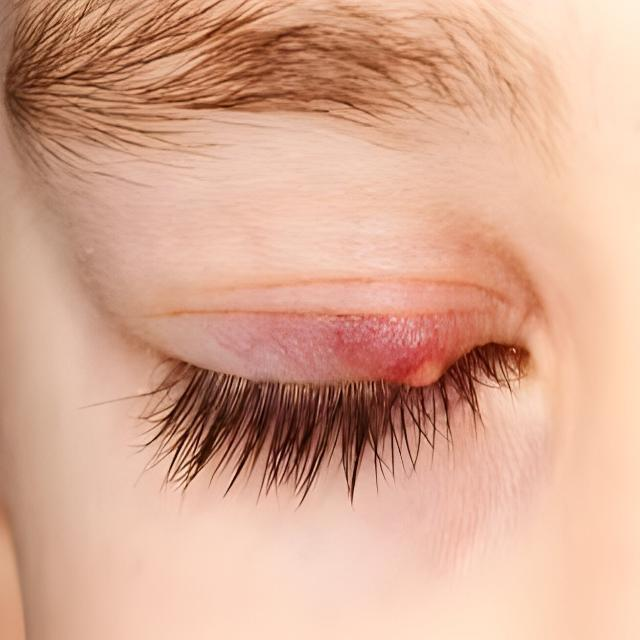Stye: (317, 314, 530, 442)
